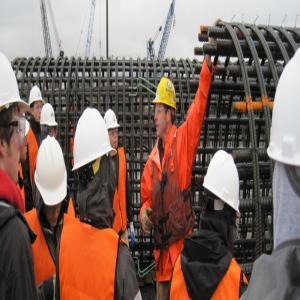white: (71, 106, 116, 213), (200, 141, 243, 238), (1, 55, 24, 189), (36, 138, 69, 225), (104, 106, 121, 153), (40, 103, 58, 144), (29, 86, 45, 127)
yellow: (152, 74, 180, 140)
